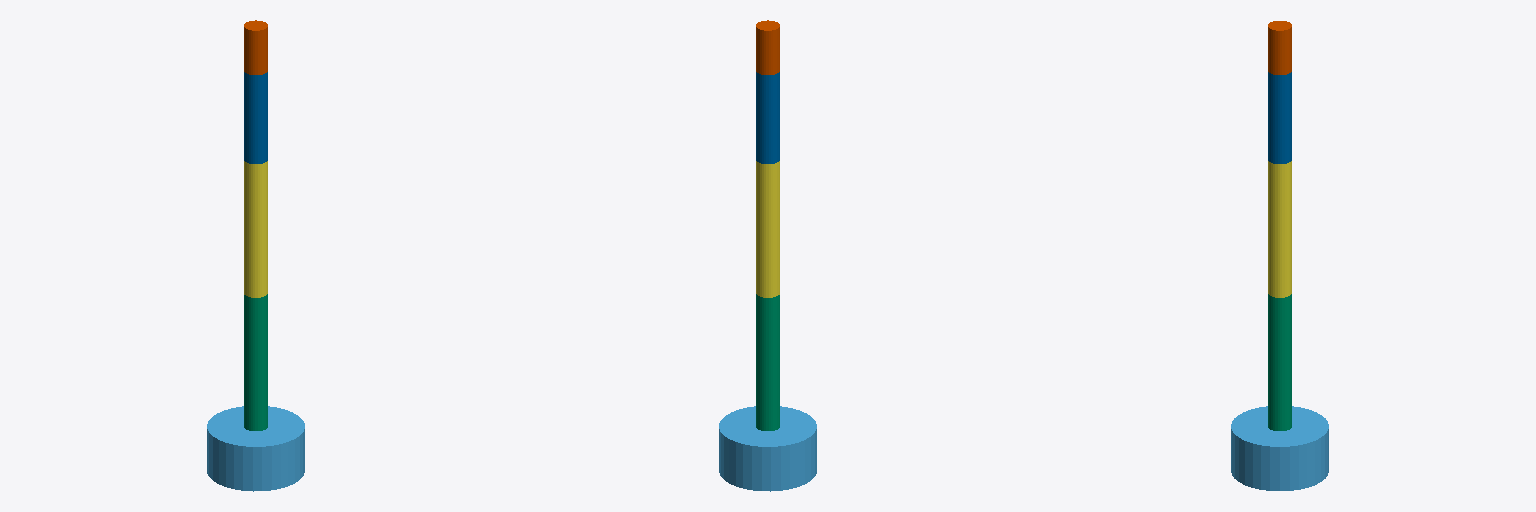
URDF robot description (printerArm):
<?xml version="1.0"?>
<robot name="printerArm">

  <link name="world"/>
  <joint name="world_fixed" type="fixed">
    <origin xyz="0 0 0" rpy="0 0 0"/>
    <parent link="world"/>
    <child link="base_link"/>
  </joint>

  <link name="base_link">
    <visual>
      <geometry>
        <cylinder length="0.2" radius="0.2"/>
      </geometry>
    </visual>
  </link>

  <joint name="joint1" type="revolute">
    <parent link="base_link"/>
    <child link="link1"/>
    <origin rpy="0 0 0" xyz="0 0 0.1"/>
    <axis xyz="0 0 1"/>
    <limit effort="411" lower="-6.2832" upper="6.2832" velocity="3.1416"/>
    <dynamics damping="60.0" friction="4.0" />
  </joint>

  <link name="link1">
    <visual>
      <geometry>
        <cylinder length="0.6" radius="0.05"/>
      </geometry>
      <origin rpy="0 0 0" xyz="0 0 0.3"/>
      <material name="white"/>
    </visual>
  </link>

  <joint name="joint2" type="revolute">
    <parent link="link1"/>
    <child link="link2"/>
    <origin rpy="0 0 0" xyz="0 0 0.6"/>
    <axis xyz="0 1 0"/>
    <limit effort="411" lower="-6.2832" upper="6.2832" velocity="3.1416"/>
    <dynamics damping="60.0" friction="4.0" />
  </joint>

  <link name="link2">
    <visual>
      <geometry>
        <cylinder length="0.6" radius="0.05"/>
      </geometry>
      <origin rpy="0 0 0" xyz="0 0 0.3"/>
      <material name="green"/>
    </visual>
  </link>

  <joint name="joint3" type="revolute">
    <parent link="link2"/>
    <child link="link3"/>
    <origin rpy="0 0 0" xyz="0 0 0.6"/>
    <axis xyz="0 1 0"/>
    <limit effort="411" lower="-6.2832" upper="6.2832" velocity="3.1416"/>
    <dynamics damping="60.0" friction="4.0" />
  </joint>

  <link name="link3">
    <visual>
      <geometry>
        <cylinder length="0.4" radius="0.05"/>
      </geometry>
      <origin rpy="0 0 0" xyz="0 0 0.2"/>
      <material name="blue"/>
    </visual>
  </link>

  <joint name="joint4" type="revolute">
    <parent link="link3"/>
    <child link="link4"/>
    <origin rpy="0 0 0" xyz="0 0 0.4"/>
    <axis xyz="0 1 0"/>
    <limit effort="411" lower="-6.2832" upper="6.2832" velocity="3.1416"/>
    <dynamics damping="60.0" friction="4.0" />
  </joint>

  <link name="link4">
    <visual>
      <geometry>
        <cylinder length="0.2" radius="0.05"/>
      </geometry>
      <origin rpy="0 0 0" xyz="0 0 0.1"/>
      <material name="yellow"/>
    </visual>
  </link>

</robot>

--- Facts derived from the render (not from the file) ---
3 views of the same robot in one strip: view 1: azimuth 30°, elevation 25°; view 2: azimuth 150°, elevation 25°; view 3: azimuth 270°, elevation 25° (orthographic).
Robot: printerArm — 6 links, 5 joints (4 revolute, 1 fixed); root link world; default pose: all joints at 0.
Links seen in each view (by area): view 1: base_link, link2, link1, link3, link4; view 2: base_link, link2, link1, link3, link4; view 3: base_link, link2, link1, link3, link4.
Link boxes in pixels (bbox=[...]): base_link: bbox=[207, 406, 304, 491]; link2: bbox=[244, 161, 267, 297]; link1: bbox=[244, 294, 267, 430]; link3: bbox=[244, 72, 267, 163]; link4: bbox=[244, 20, 267, 74]; base_link: bbox=[719, 406, 816, 491]; link2: bbox=[756, 161, 779, 297]; link1: bbox=[756, 294, 779, 430]; link3: bbox=[756, 72, 779, 163]; link4: bbox=[756, 20, 779, 74]; base_link: bbox=[1231, 406, 1328, 490]; link2: bbox=[1268, 161, 1291, 297]; link1: bbox=[1268, 294, 1291, 430]; link3: bbox=[1268, 72, 1291, 163]; link4: bbox=[1268, 21, 1291, 74].
Size in the robot's own frame: 0.4 by 0.4 by 2 metres.
Geometry: primitives only (box / cylinder / sphere), no mesh files.